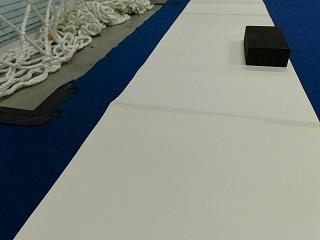block: (243, 25, 289, 66)
